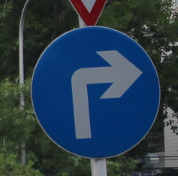right_turn: (31, 26, 161, 159)
